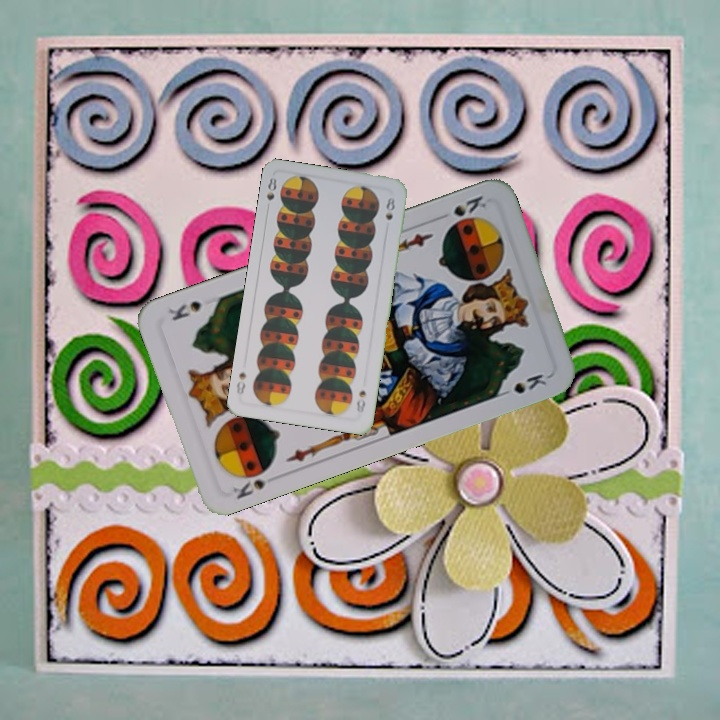S8: (262, 174, 279, 214), (352, 386, 369, 415)
SK: (449, 191, 489, 219), (228, 475, 269, 502)
